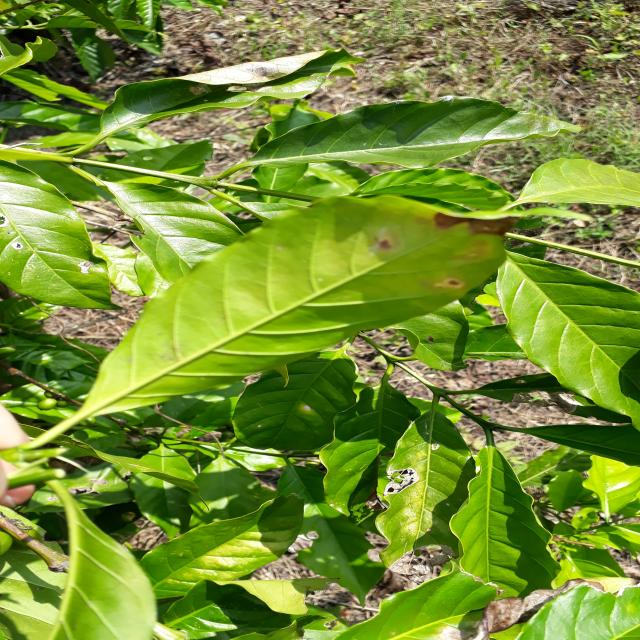Enfermedad-Roya: (38, 195, 517, 445)
